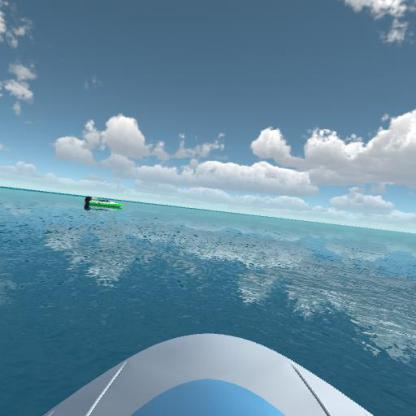usv0: (82, 192, 126, 212)
